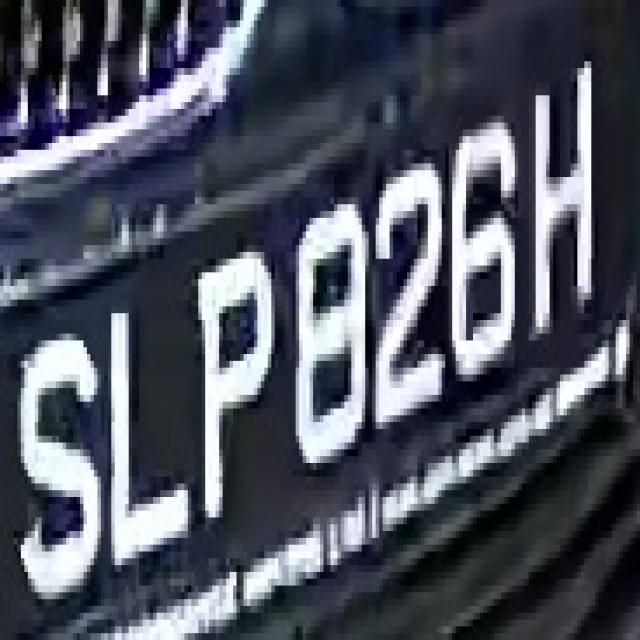2: (368, 156, 448, 442)
6: (442, 116, 522, 402)
8: (282, 204, 368, 490)
H: (528, 54, 602, 333)
L: (101, 279, 198, 572)
P: (188, 245, 282, 524)
S: (7, 300, 101, 612)
